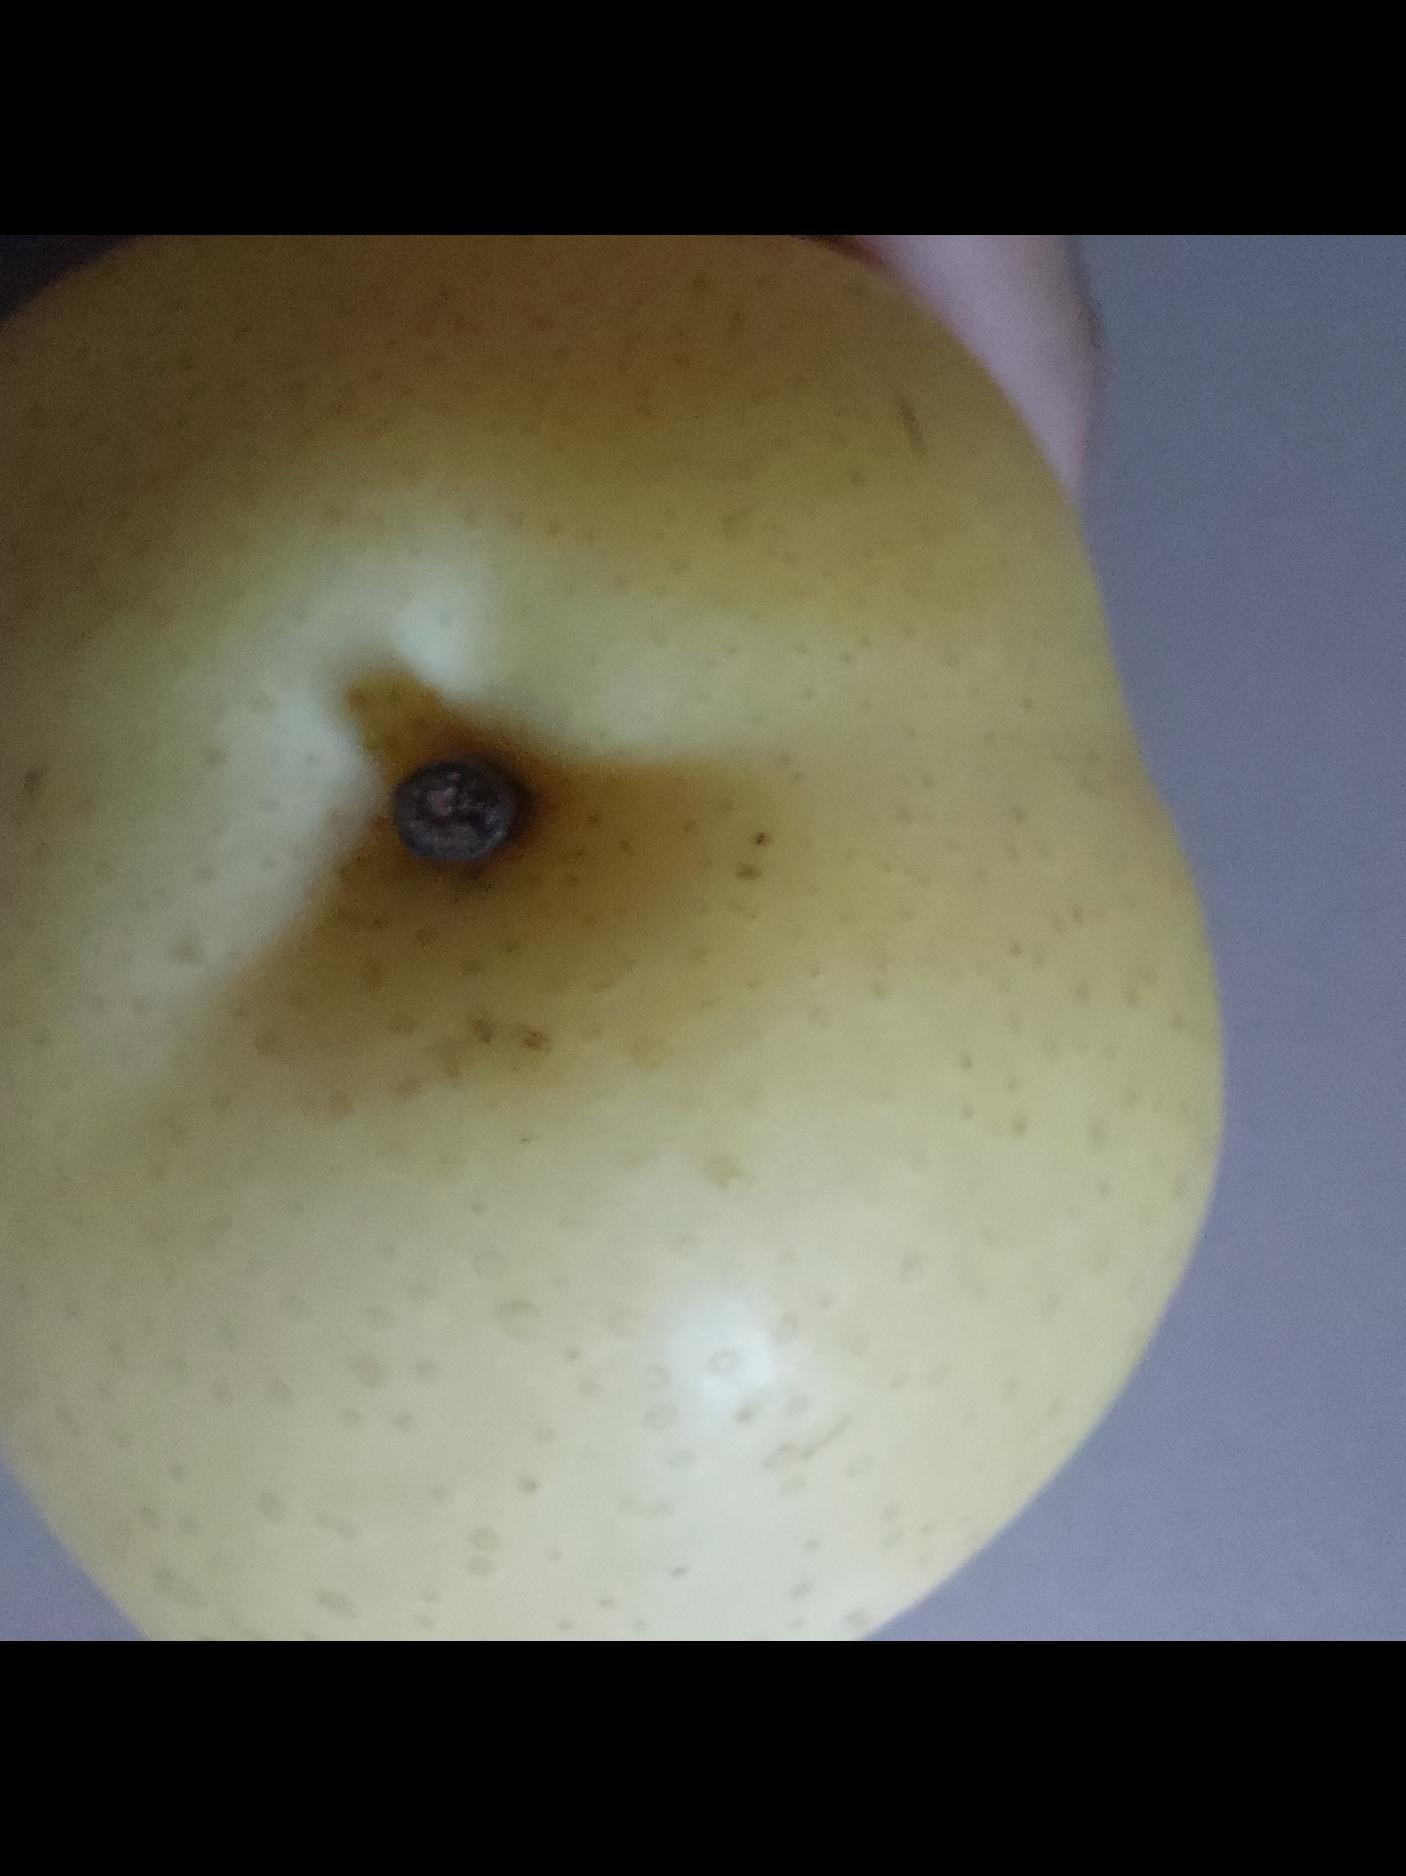Good Pear: (0, 235, 1223, 1641)
